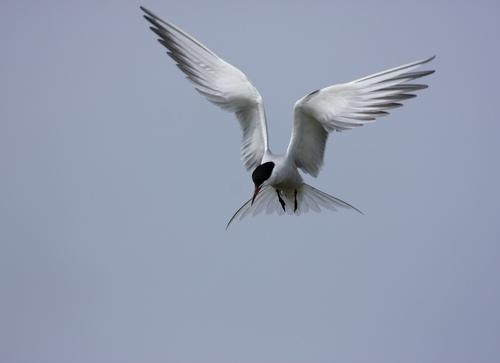bird: (147, 6, 437, 226)
